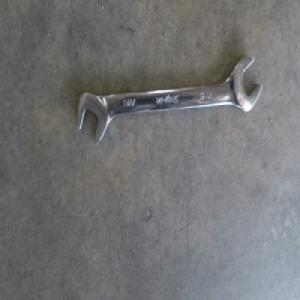Wrench: (77, 60, 257, 150)
